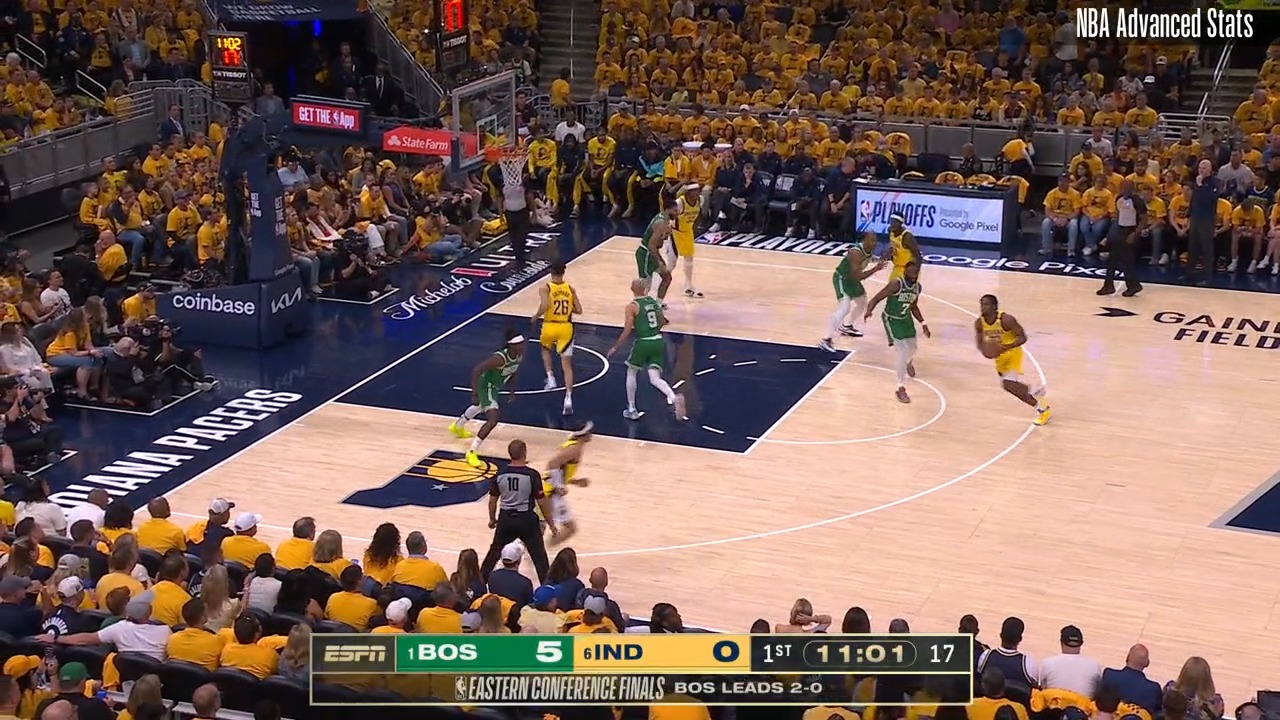basketball: (982, 338, 1001, 359)
